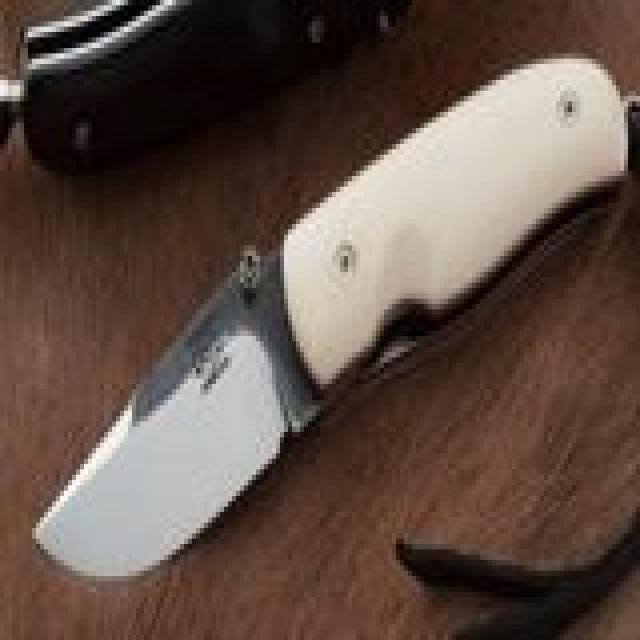Knife: (15, 52, 631, 606)
